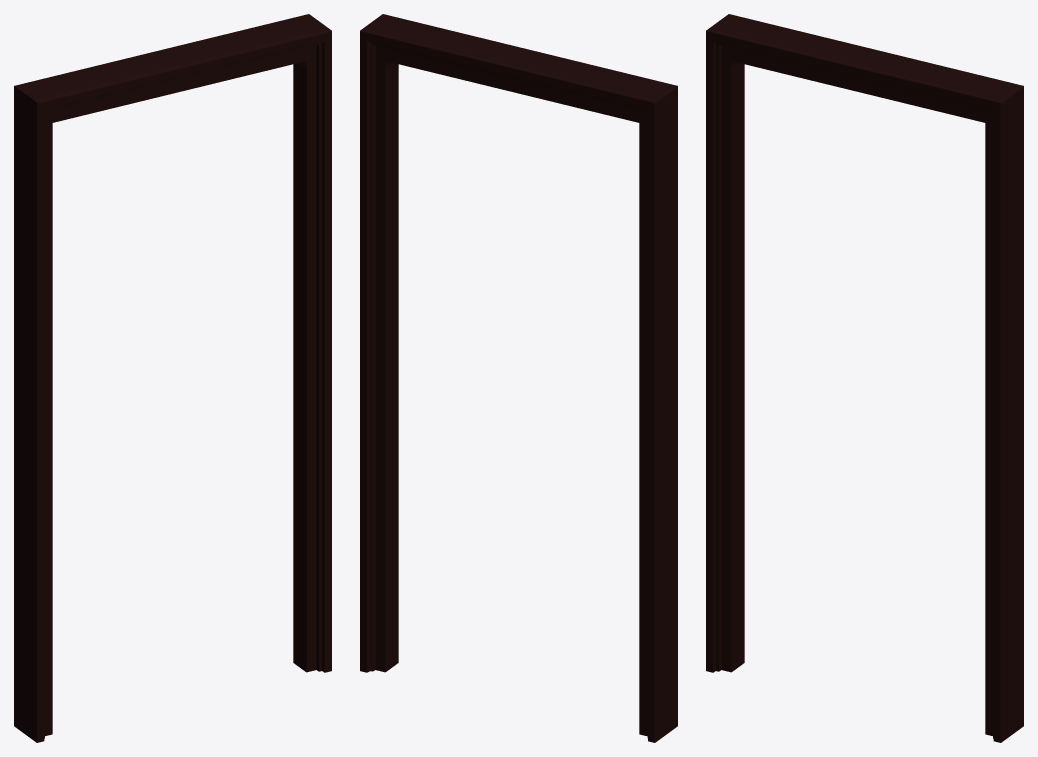
The model's file is Door_Frame.FBX.
3 views of the same model, side by side, from view 1: azimuth 30°, elevation 25°; view 2: azimuth 150°, elevation 25°; view 3: azimuth 330°, elevation 25° (orthographic).
Visible parts, largest first — view 1: Door_Frame; view 2: Door_Frame; view 3: Door_Frame.
Boxes of the visible parts, x1,y1,x2,y2 form: Door_Frame: (14,14,331,742); Door_Frame: (360,14,677,742); Door_Frame: (706,14,1023,742).
Bounding box in the file's own units: 40.71 × 84.45 × 5.51.
